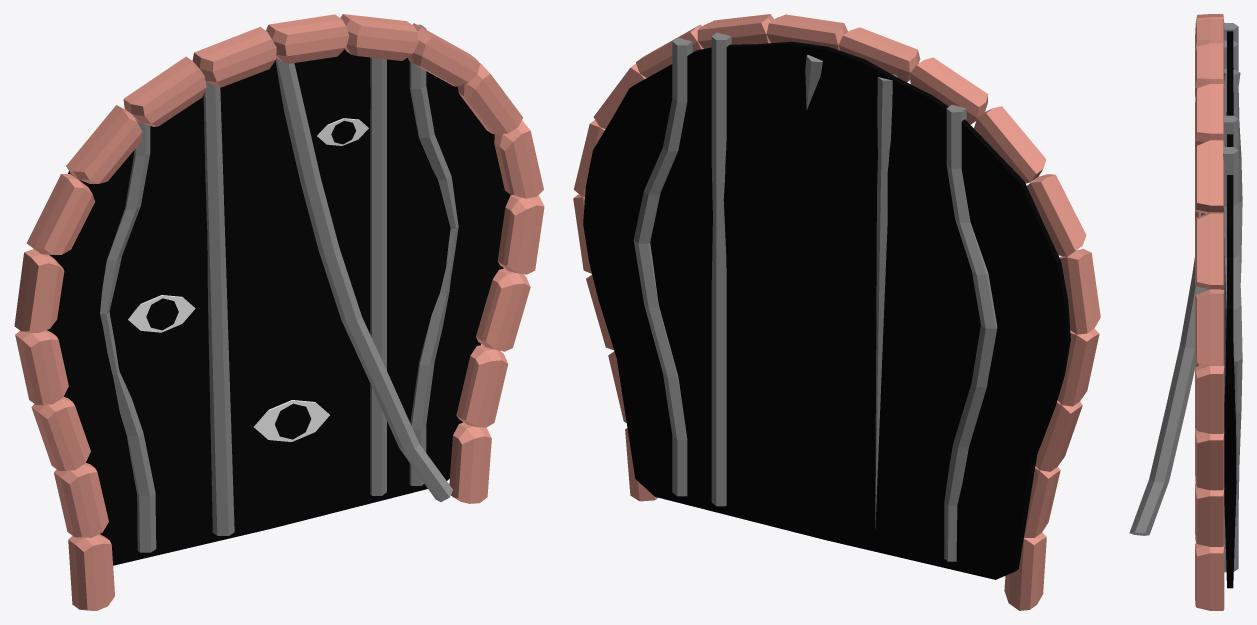
Rendered from GrateTogether_Final.fbx.
3 renders of one model, left to right at view 1: azimuth 30°, elevation 25°; view 2: azimuth 150°, elevation 25°; view 3: azimuth 270°, elevation 25°, orthographic. The views are drawn at different scales.
Parts seen in each view (by area): view 1: Grate; view 2: Grate; view 3: Grate.
Part boxes in pixels (x1,y1,x2,y2): Grate: (14, 14, 544, 610); Grate: (573, 14, 1100, 610); Grate: (1129, 14, 1242, 610).
Size of the model in its own units: 95.92 by 94.83 by 19.71.
